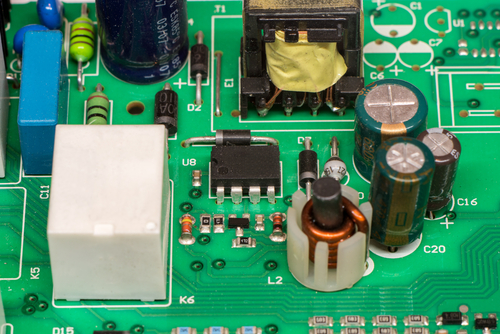capacitor: (92, 1, 192, 82), (371, 136, 426, 247), (353, 78, 430, 139), (423, 130, 462, 167)
resistor: (70, 15, 94, 59), (86, 91, 110, 127)
